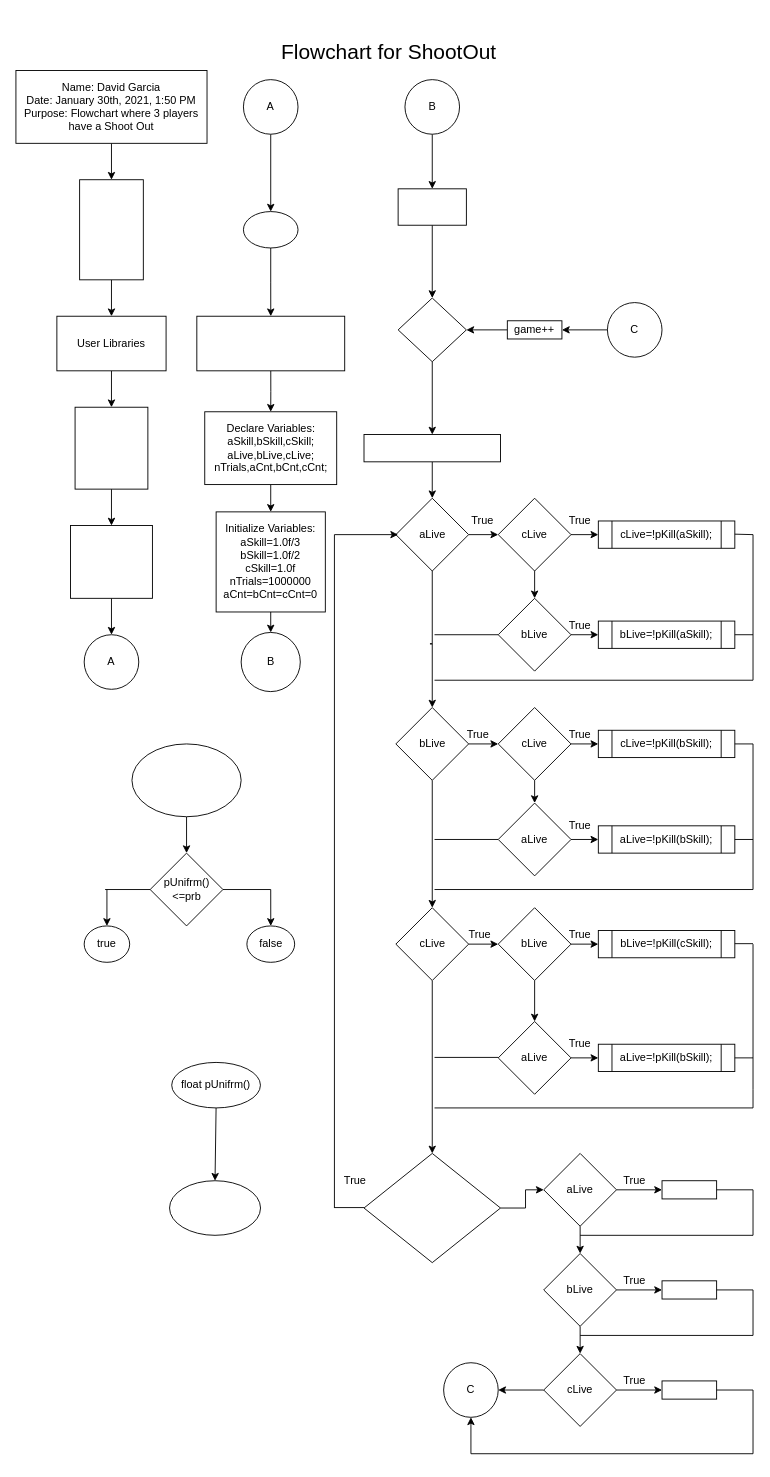
Image size: 770x1477. Some labels were removed from this diagram. The shapes that lost their labels are listed below. From the top down, each one's box as (x1, y1, x2, y2) in pixels, then its label:
(397, 188, 466, 225): game=1
(79, 179, 143, 280): System Libraries: iostream cstdlib ctime cmath iomanip
(243, 211, 298, 248): Main
(196, 315, 345, 371): Set Random Seed: srand(static_cast<unsinged>(time(0)));
(397, 297, 466, 362): game<= nTrials
(74, 406, 148, 489): Global Constants: MAXRAND = pow(2,31)-1
(363, 434, 500, 462): aLive=bLive=cLive=true;
(70, 525, 152, 598): Function Prototypes: pUnifrm(); pKill(float);
(131, 743, 241, 817): bool pKill(float prb)
(169, 1180, 261, 1235): rand()/MAXRAND
(363, 1153, 500, 1263): aLive+bLive+cLive != 1
(661, 1180, 717, 1199): aCnt++
(661, 1280, 717, 1299): bCnt++
(661, 1380, 717, 1399): cCnt++
